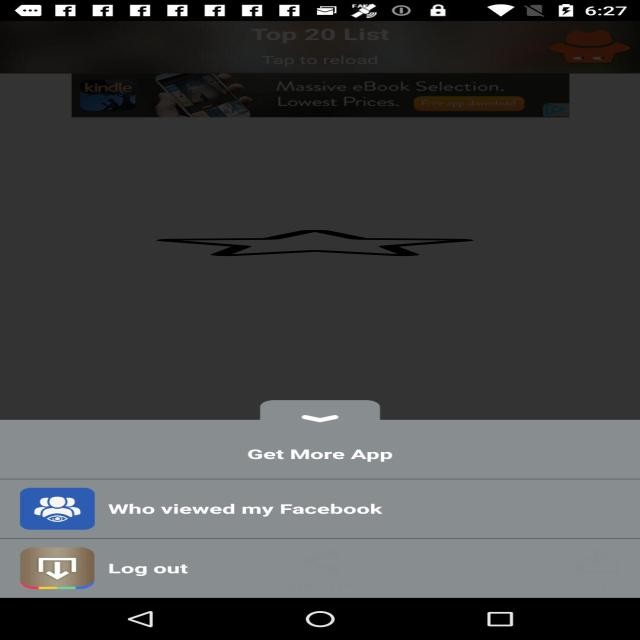forced continuity: (156, 229, 474, 257)
